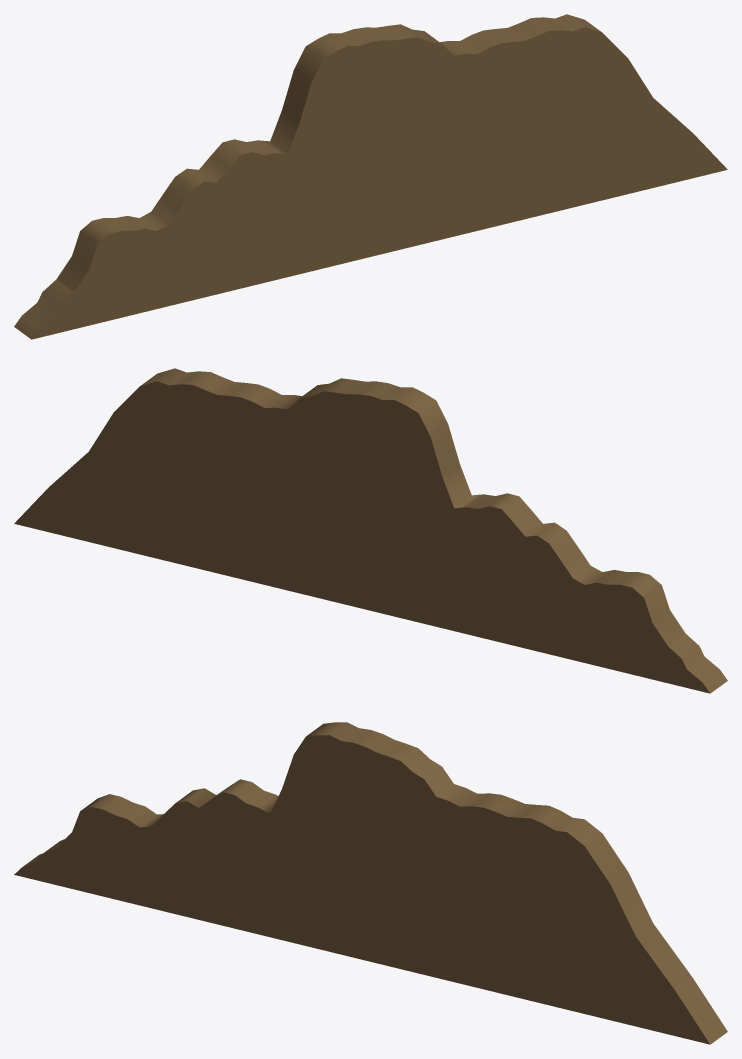
The model's file is Rock.fbx.
3 renders of one model, top to bottom at view 1: azimuth 30°, elevation 25°; view 2: azimuth 150°, elevation 25°; view 3: azimuth 330°, elevation 25°, orthographic.
Parts seen in each view (by area): view 1: pCube1; view 2: pCube1; view 3: pCube1.
Boxes of the visible parts, left/top/right/bottom form: pCube1: left=14, top=14, right=727, bottom=339; pCube1: left=14, top=368, right=727, bottom=693; pCube1: left=14, top=722, right=727, bottom=1044.
Size of the model in its own units: 0.1333 by 0.0396 by 0.00584.
